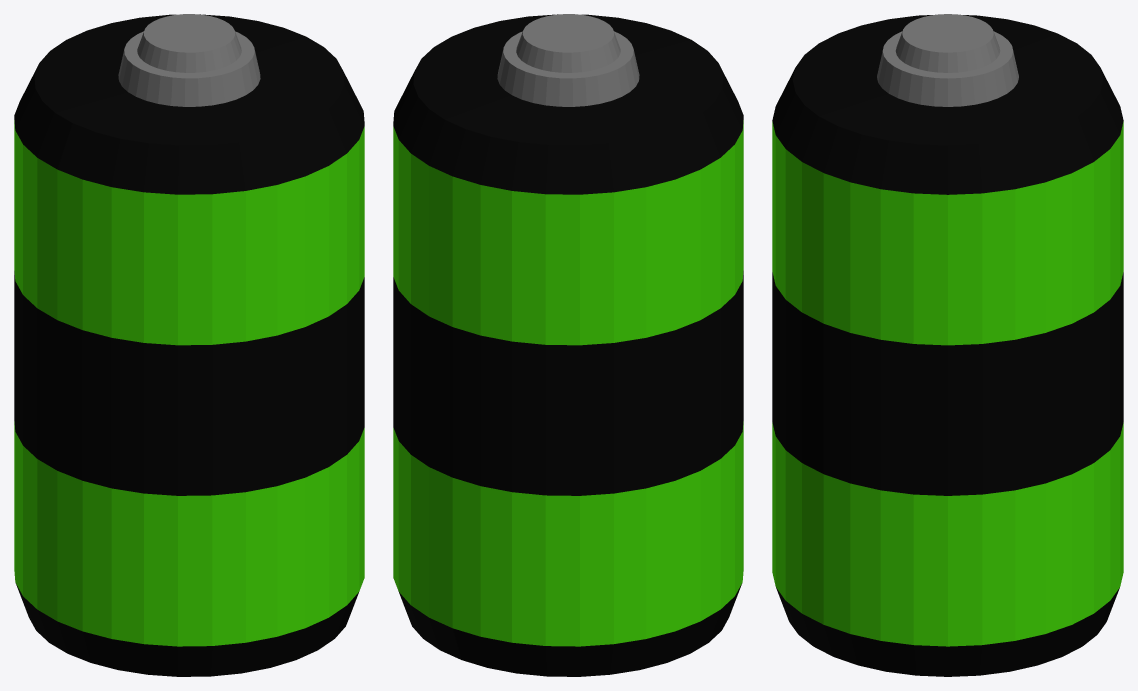
The model's file is BatteryNoSmooth.fbx.
3 renders of one model, left to right at view 1: azimuth 30°, elevation 25°; view 2: azimuth 150°, elevation 25°; view 3: azimuth 270°, elevation 25°, orthographic.
Visible parts, largest first — view 1: Cylinder; view 2: Cylinder; view 3: Cylinder.
Boxes of the visible parts, bbox=[...] form: Cylinder: bbox=[14, 14, 364, 676]; Cylinder: bbox=[393, 14, 743, 676]; Cylinder: bbox=[772, 14, 1123, 676].
Bounding box in the file's own units: 135 × 244 × 135.
